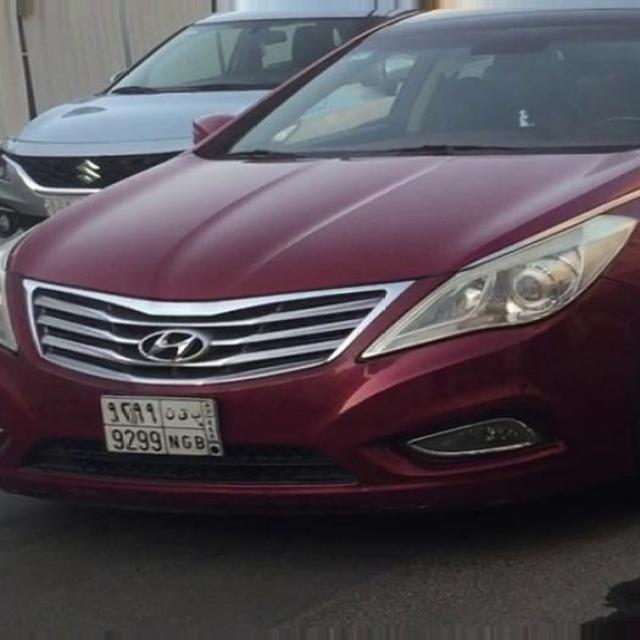Car-plate: (98, 391, 232, 466)
